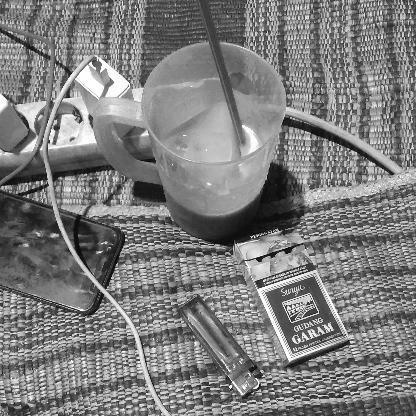objects: (233, 228, 350, 366)
